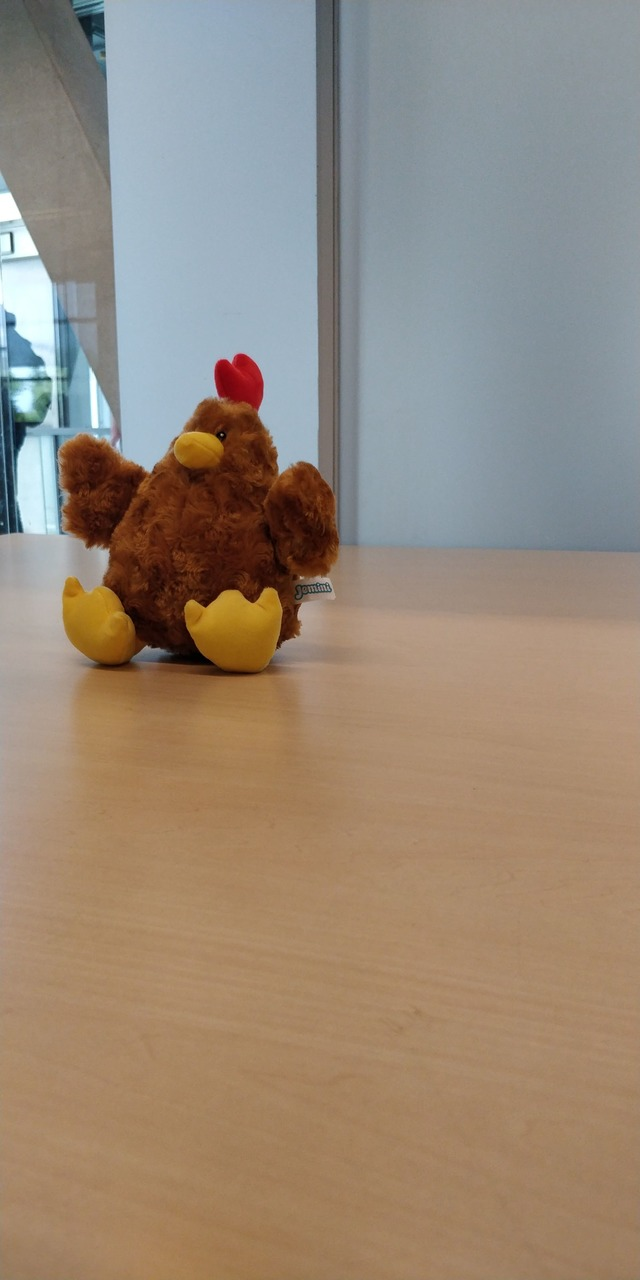fakeChicken: (58, 356, 344, 677)
